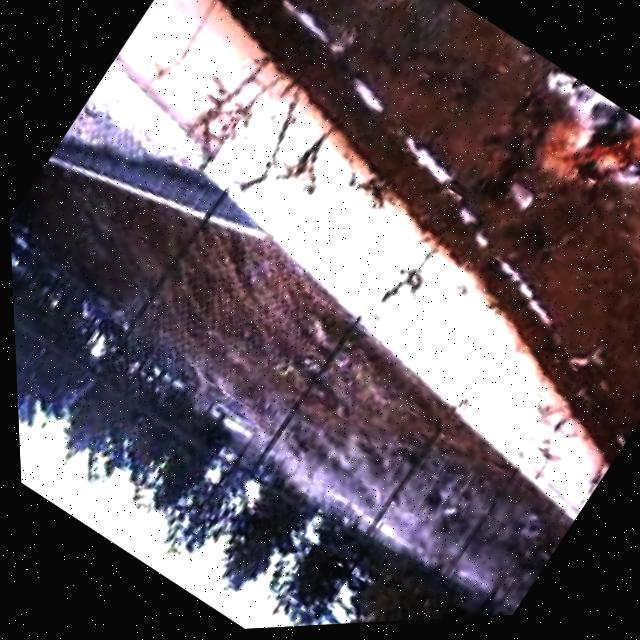Fire: (502, 71, 640, 240)
